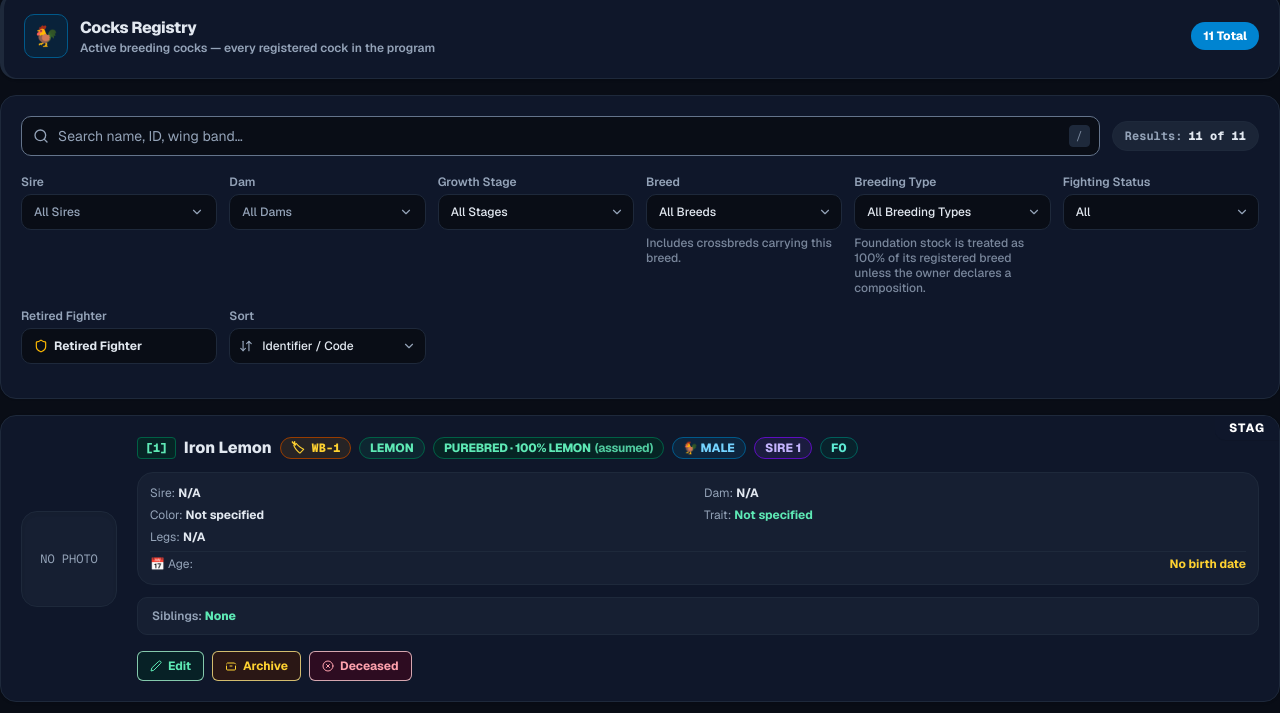
Scenario: FowlLists search and filter › shows friendly empty state when no chickens match and allows clearing
Type "NonExistentChicken" into the search field named "Search Registry" at (560, 136), box [21,116,1100,156]
(page scrolled)
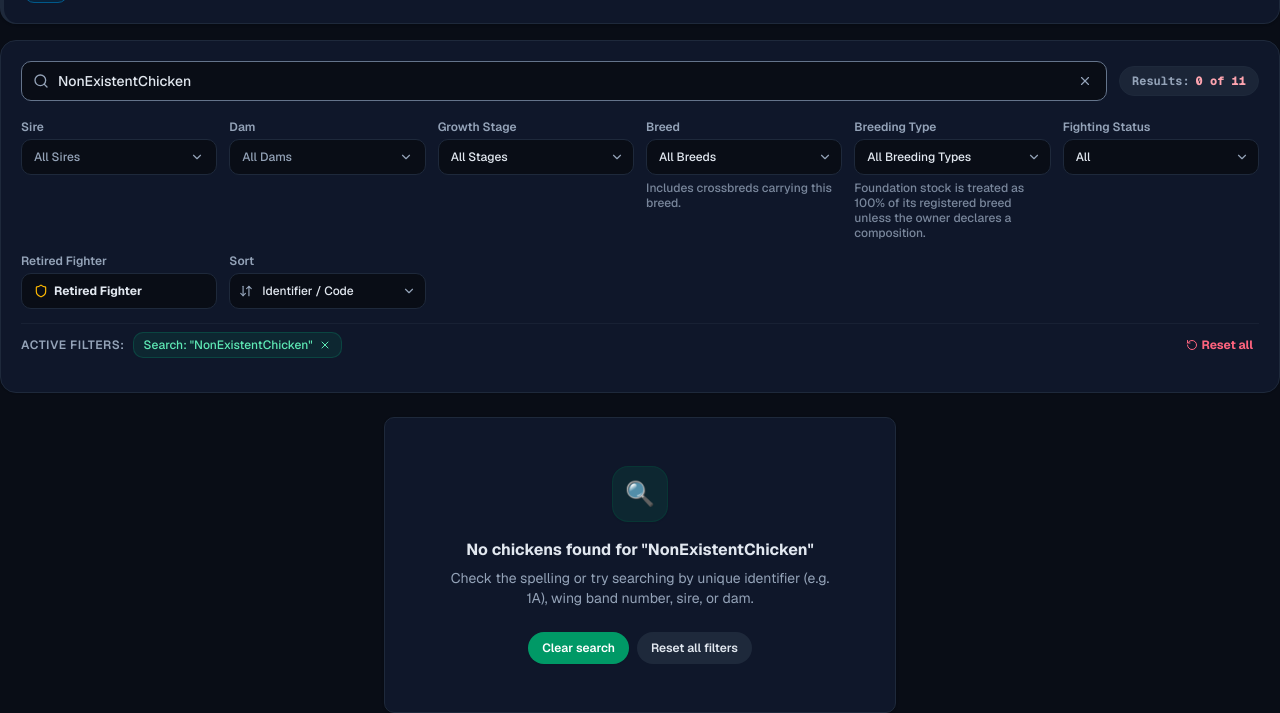
Now the heading "No chickens found for \"NonExistentChicken\"" is shown, box [466,539,814,560]
Click the button "Clear search" at (579, 648), box [528,632,629,664]
(page scrolled)
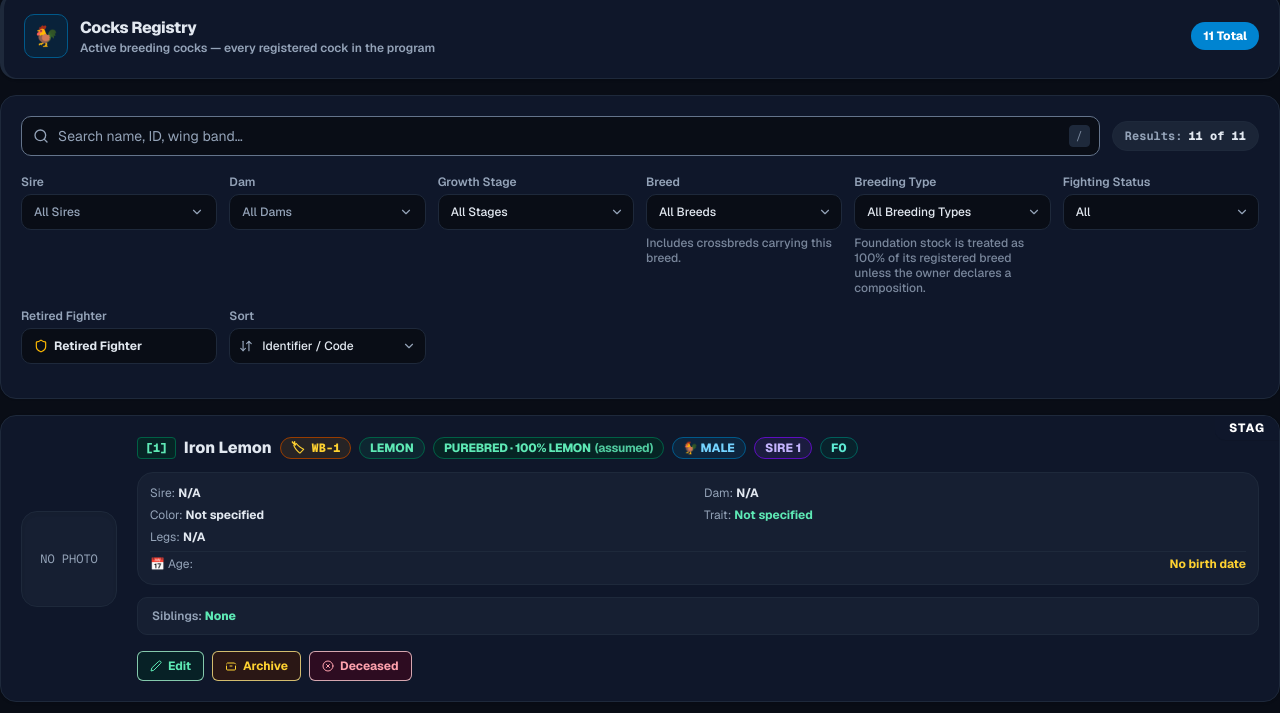
Now the text "11 of 11" is shown, box [1188,128,1246,144]
